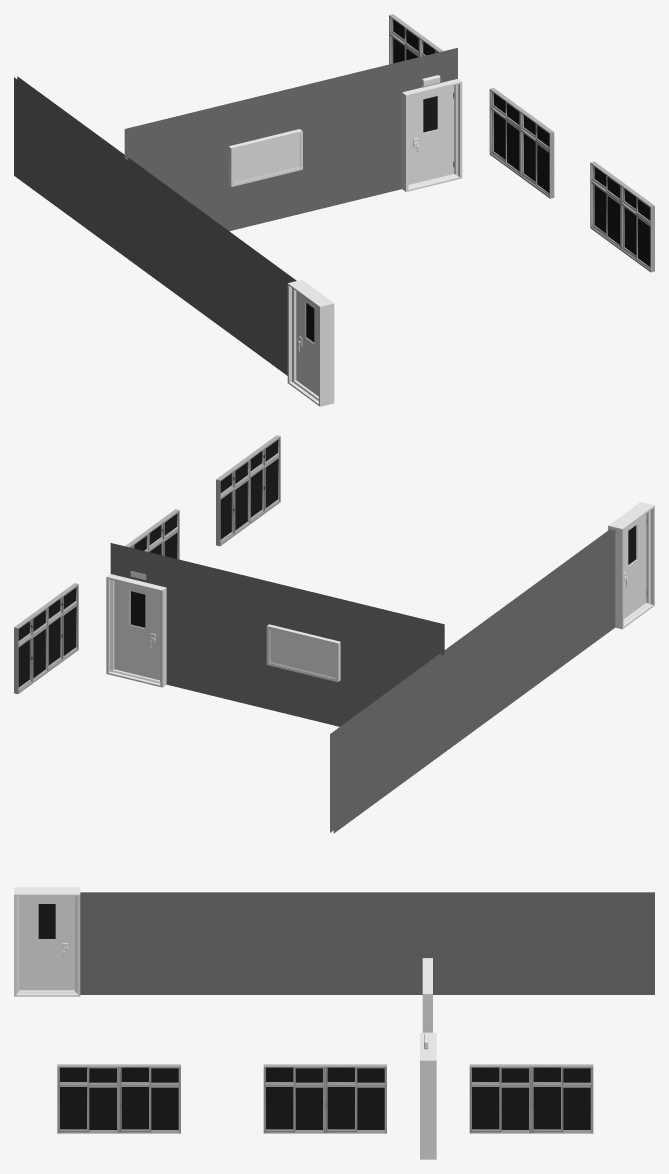
File: M_Broadcastroom_Frame.fbx
The picture shows the model from 3 angles, top to bottom: view 1: azimuth 30°, elevation 25°; view 2: azimuth 150°, elevation 25°; view 3: azimuth 270°, elevation 25°; orthographic projection. The views are drawn at different scales.
Parts seen in each view (by area): view 1: Broadcastroom_Frame, Window_01_1, Window_01, Me_BroadCastDoor_1, BFrame, BFrame_1, glass_GEO, Me_BroadCastDoor, Window_01__1_, windowframe_GEO; view 2: Broadcastroom_Frame, Window_01, Window_01__1_, Me_BroadCastDoor_1, BFrame, BFrame_1, Me_BroadCastDoor, glass_GEO, Window_01_1, windowframe_GEO; view 3: Broadcastroom_Frame, Window_01__1_, Window_01, Window_01_1, Me_BroadCastDoor, BFrame, BFrame_1, windowframe_GEO.
Boxes of the visible parts, x1,y1,x2,y2 form: Broadcastroom_Frame: [14, 48, 457, 375]; Window_01_1: [489, 88, 554, 198]; Window_01: [590, 161, 654, 272]; Me_BroadCastDoor_1: [408, 85, 454, 184]; BFrame: [287, 280, 334, 406]; BFrame_1: [402, 79, 462, 191]; glass_GEO: [234, 135, 299, 182]; Me_BroadCastDoor: [296, 291, 318, 396]; Window_01__1_: [389, 14, 443, 64]; windowframe_GEO: [228, 129, 302, 186]; Broadcastroom_Frame: [110, 528, 615, 833]; Window_01: [216, 435, 280, 546]; Window_01__1_: [14, 583, 78, 694]; Me_BroadCastDoor_1: [114, 580, 159, 680]; BFrame: [608, 502, 654, 629]; BFrame_1: [106, 574, 166, 687]; Me_BroadCastDoor: [623, 513, 647, 618]; glass_GEO: [270, 630, 335, 677]; Window_01_1: [125, 509, 179, 559]; windowframe_GEO: [266, 624, 340, 682]; Broadcastroom_Frame: [80, 892, 654, 994]; Window_01__1_: [469, 1064, 593, 1133]; Window_01: [57, 1064, 180, 1133]; Window_01_1: [263, 1064, 386, 1133]; Me_BroadCastDoor: [19, 896, 74, 990]; BFrame: [14, 887, 80, 996]; BFrame_1: [420, 1032, 436, 1159]; windowframe_GEO: [422, 958, 432, 1032].
Size of the model in its own units: 1021 by 350 by 1555.
